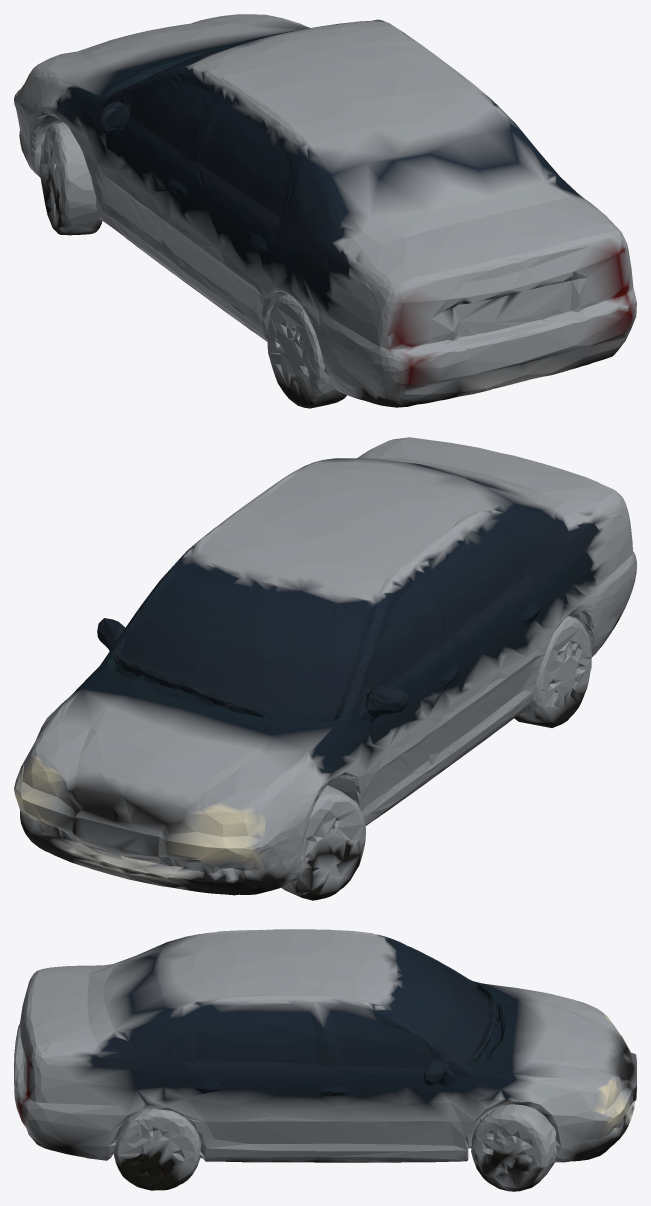
Rendered from samand_lod1.glb.
The picture shows the model from 3 angles, top to bottom: view 1: azimuth 30°, elevation 25°; view 2: azimuth 150°, elevation 25°; view 3: azimuth 270°, elevation 25°; orthographic projection. The views are drawn at different scales.
Visible parts, largest first — view 1: world; view 2: world; view 3: world.
Boxes of the visible parts, x1,y1,x2,y2 form: world: (14, 14, 636, 408); world: (14, 437, 636, 900); world: (14, 929, 636, 1191).
Bounding box in the file's own units: 91.25 × 67.29 × 208.
